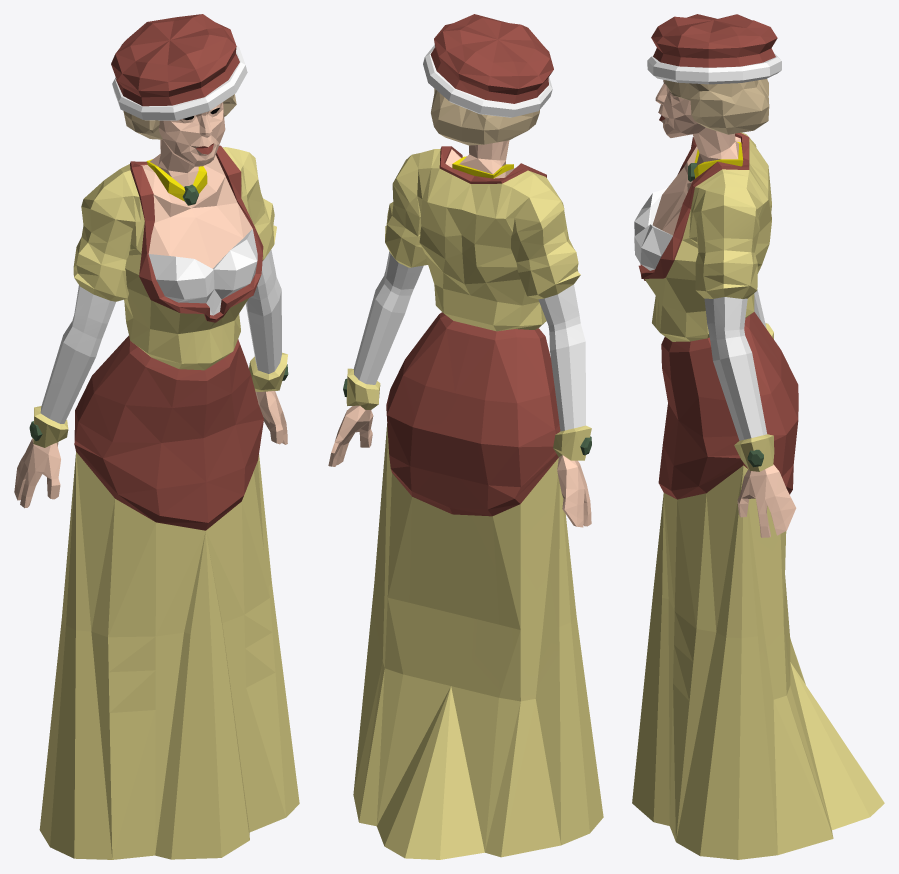
Rendered from city_dwellers_2.glb.
The picture shows the model from 3 angles, left to right: view 1: azimuth 30°, elevation 25°; view 2: azimuth 150°, elevation 25°; view 3: azimuth 270°, elevation 25°; orthographic projection. The views are drawn at different scales.
Parts seen in each view (by area): view 1: city_dwellers_2.001; view 2: city_dwellers_2.001; view 3: city_dwellers_2.001.
Part boxes in pixels (bbox=[...]): city_dwellers_2.001: bbox=[14, 14, 299, 859]; city_dwellers_2.001: bbox=[328, 14, 603, 859]; city_dwellers_2.001: bbox=[632, 14, 884, 859].
Bounding box in the file's own units: 0.5818 × 1.68 × 0.4903.
Materials: 1 (1 with a texture image).
